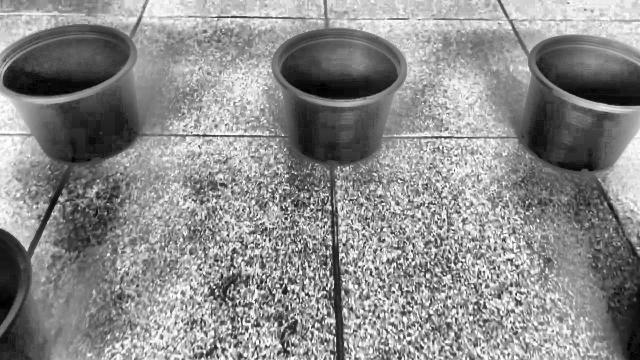pot: (0, 26, 140, 164), (272, 28, 408, 165), (519, 35, 640, 172)
